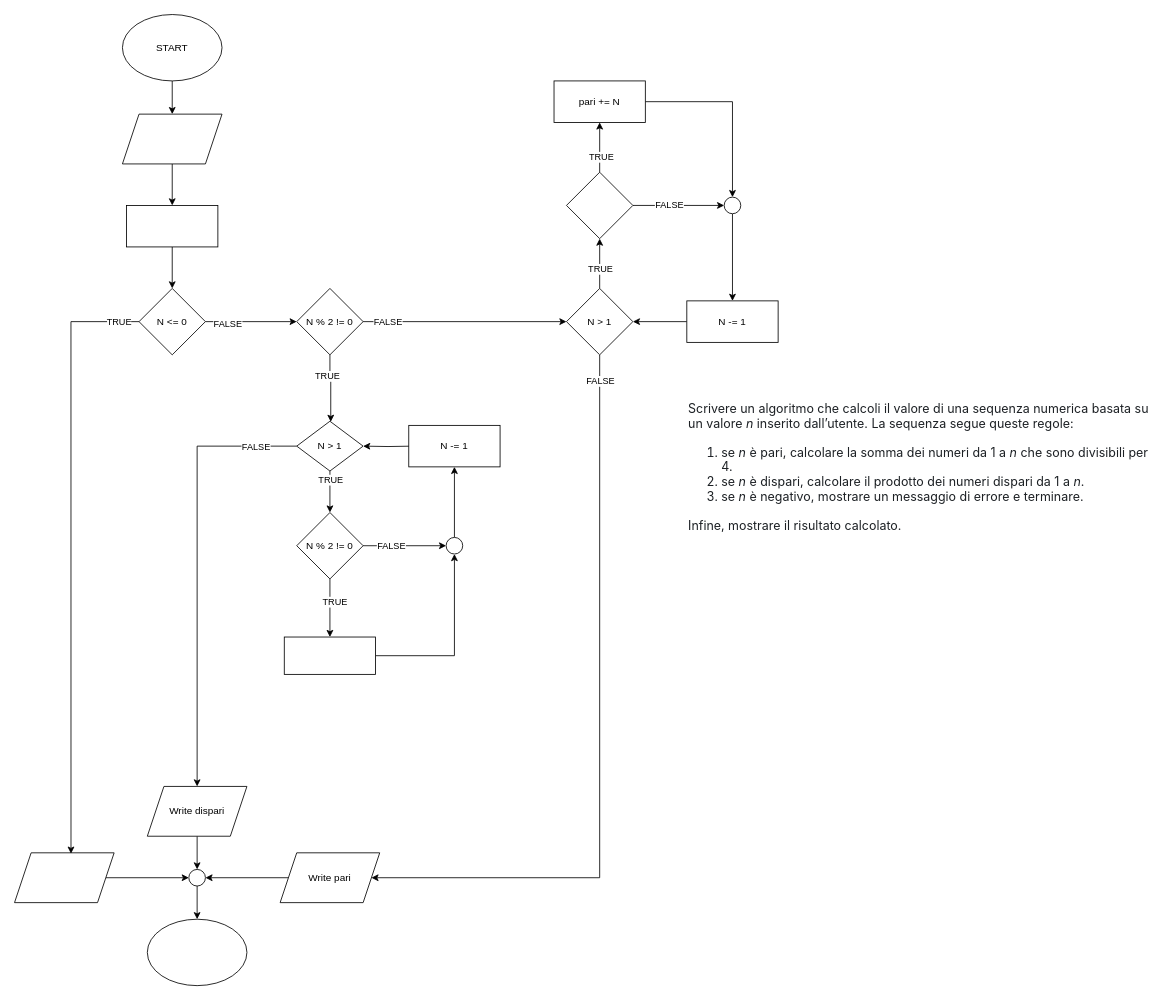
This 1166x1000 diagram has some shape labels left out. The shapes that lost their labels are listed below. From the top down, each one's box as (x1, y1, x2, y2) in pixels, then its label:
(122, 113, 222, 164): Read N
(566, 171, 633, 239): N % 4 == 0
(126, 205, 218, 247): dispari = 1 pari = 0
(283, 636, 376, 674): dispari *= N
(14, 852, 114, 903): Write "error number invalid"
(146, 918, 247, 986): END
